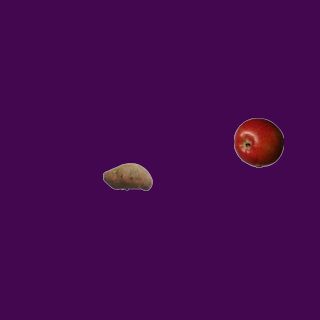Apple Braeburn: (233, 117, 283, 167)
Potato Sweet: (102, 151, 152, 201)
